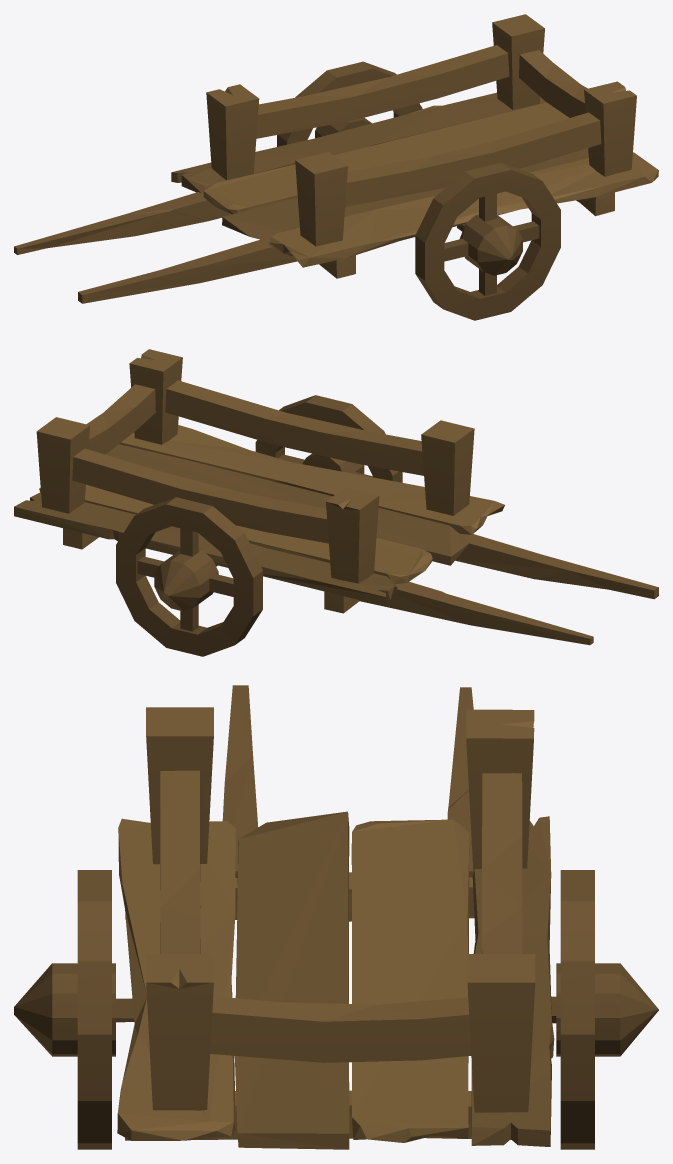
Rendered from Cart_01.fbx.
3 renders of one model, top to bottom at view 1: azimuth 30°, elevation 25°; view 2: azimuth 150°, elevation 25°; view 3: azimuth 270°, elevation 25°, orthographic. The views are drawn at different scales.
Visible parts, largest first — view 1: Cart_01; view 2: Cart_01; view 3: Cart_01.
Part boxes in pixels (x1,y1,x2,y2): Cart_01: [14, 14, 658, 320]; Cart_01: [14, 349, 658, 656]; Cart_01: [14, 685, 658, 1149].
Bounding box in the file's own units: 3.03 × 0.8746 × 1.76.
